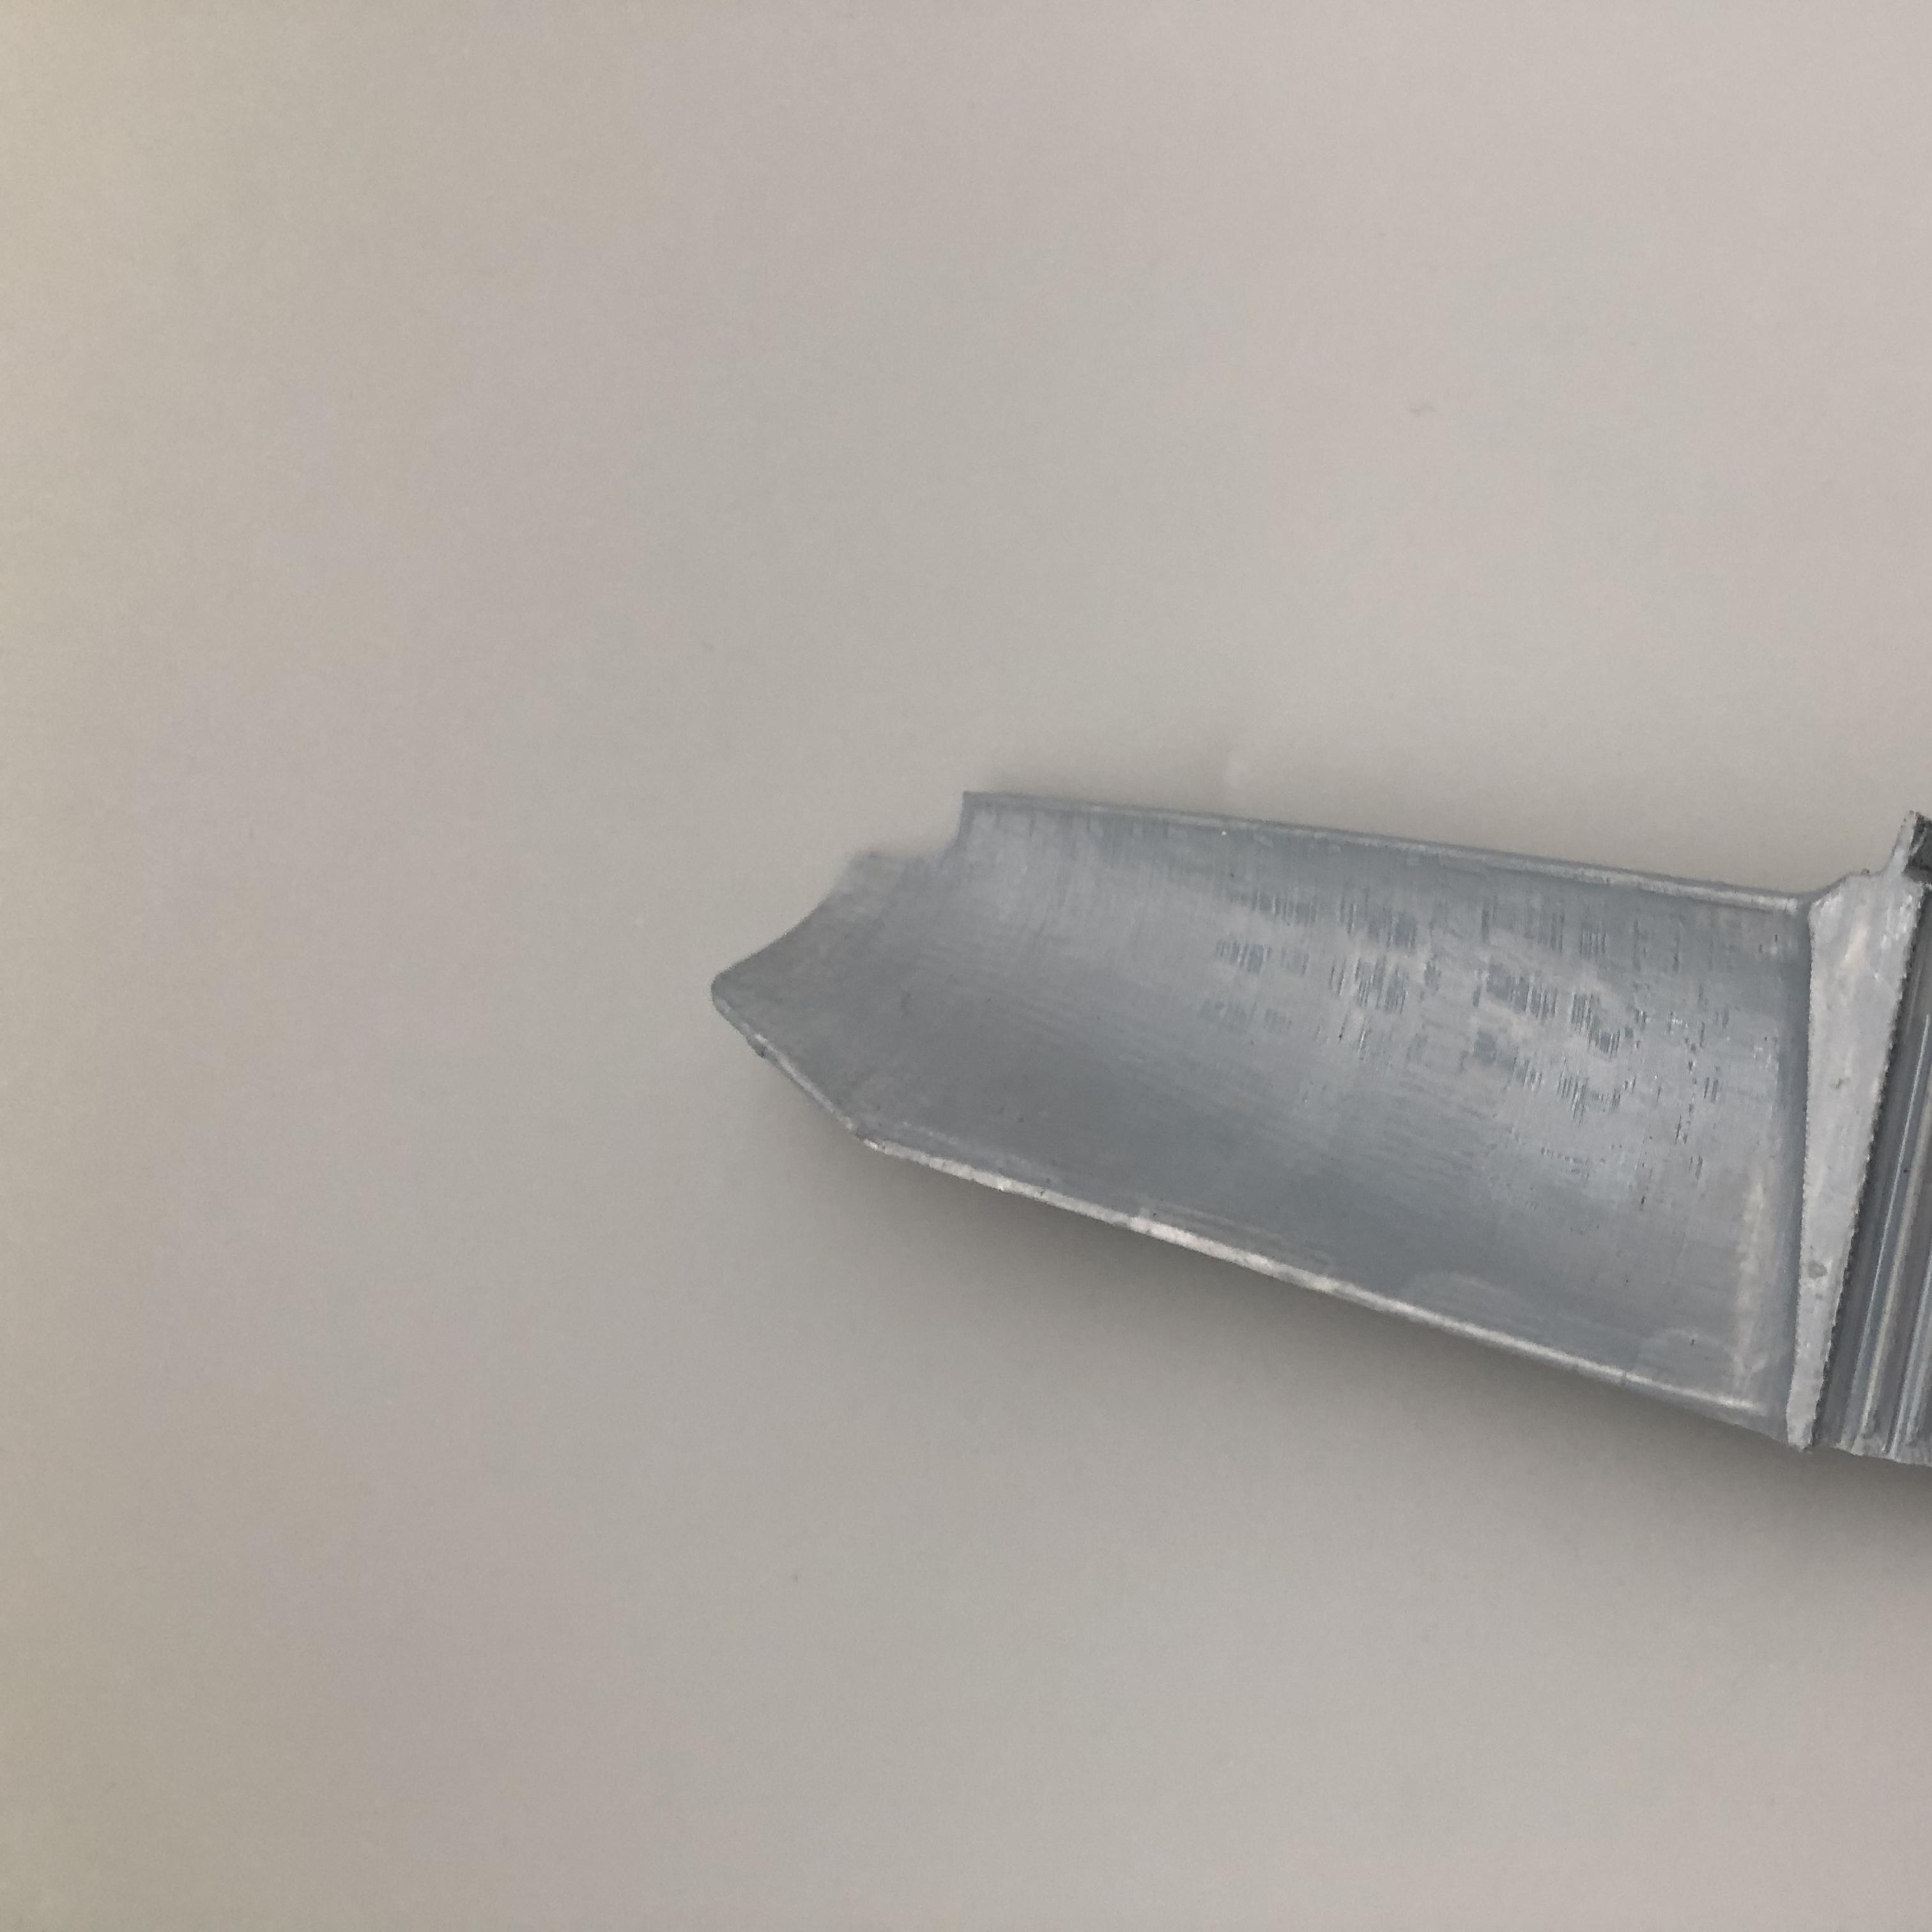fracture: (853, 778, 1017, 881)
